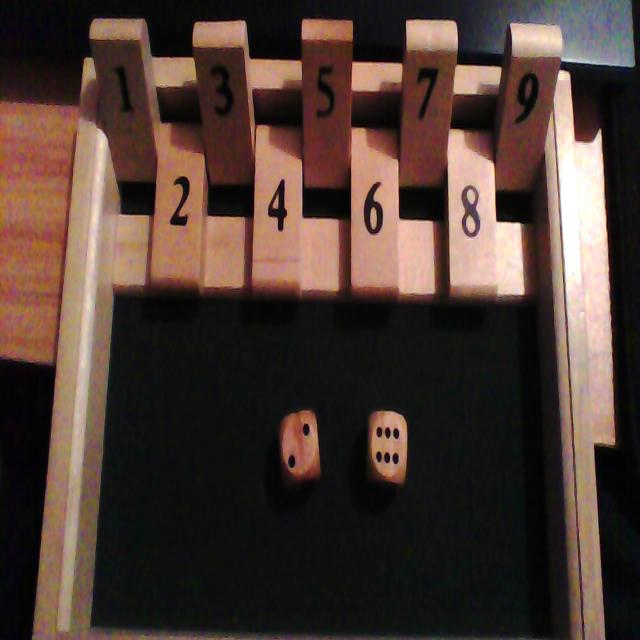2: (274, 407, 323, 491)
6: (364, 403, 410, 488)
C2: (152, 58, 198, 282)
C4: (253, 60, 300, 282)
C6: (353, 61, 399, 288)
C8: (452, 65, 497, 286)
O1: (89, 18, 153, 285)
O3: (193, 21, 252, 286)
O5: (302, 19, 352, 291)
O7: (400, 20, 458, 293)
O9: (497, 23, 562, 294)
